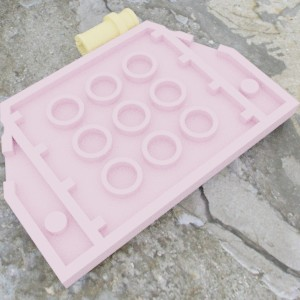lego: (0, 20, 299, 288), (74, 8, 140, 60)
